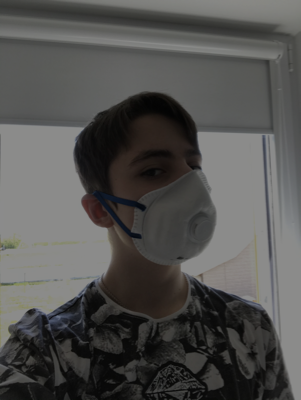with_mask: (123, 139, 217, 267)
